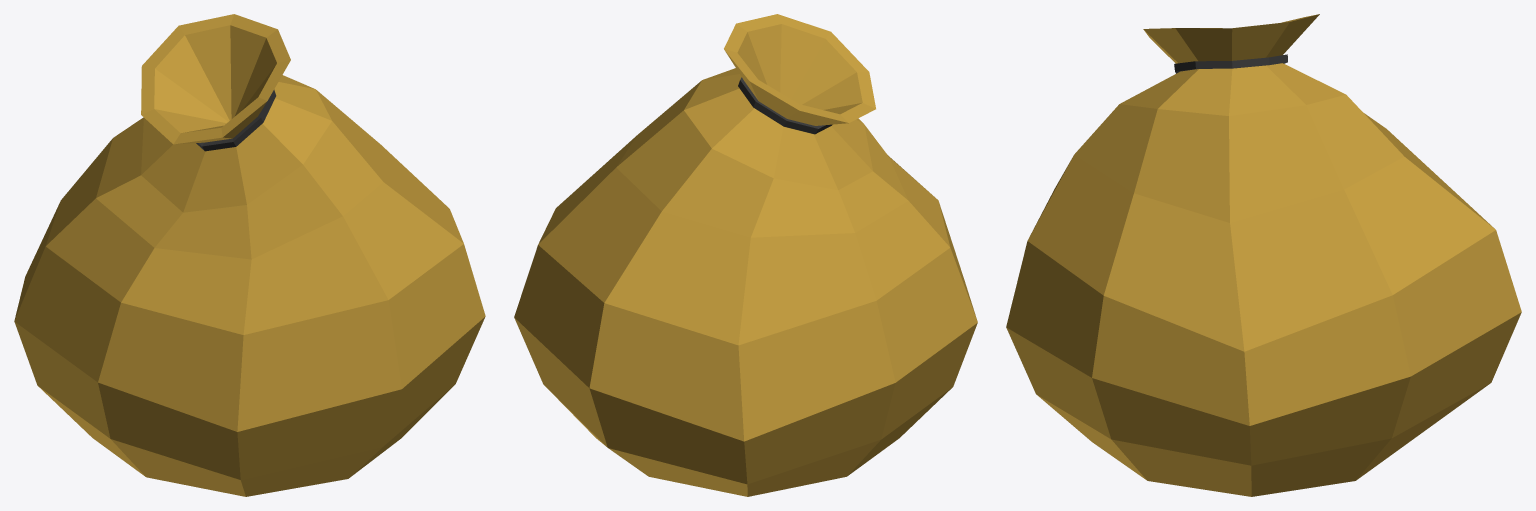
The model's file is model_trash_bag_yellow.fbx.
3 renders of one model, left to right at view 1: azimuth 30°, elevation 25°; view 2: azimuth 150°, elevation 25°; view 3: azimuth 270°, elevation 25°, orthographic. The views are drawn at different scales.
Parts seen in each view (by area): view 1: model_trash_bag_yellow; view 2: model_trash_bag_yellow; view 3: model_trash_bag_yellow.
Part boxes in pixels (<box>): model_trash_bag_yellow: <box>14,14,485,496</box>; model_trash_bag_yellow: <box>514,14,977,496</box>; model_trash_bag_yellow: <box>1006,14,1521,496</box>.
Bounding box in the file's own units: 68.65 × 66.27 × 72.34.
Materials: 1 (1 with a texture image).
